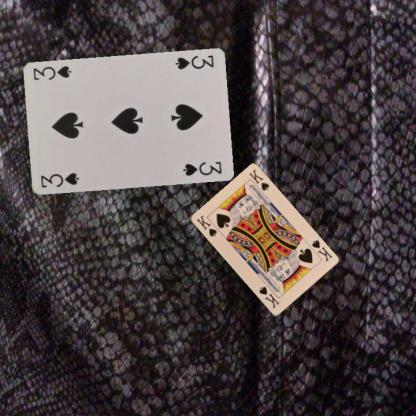3s: (38, 171, 80, 190), (173, 53, 215, 71)
Ks: (193, 213, 218, 238), (309, 237, 333, 263)
